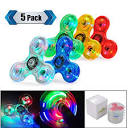fidget_kid_spinner_toys: (49, 29, 77, 80), (18, 40, 55, 77), (85, 14, 116, 58), (76, 11, 98, 69), (60, 11, 80, 59)
